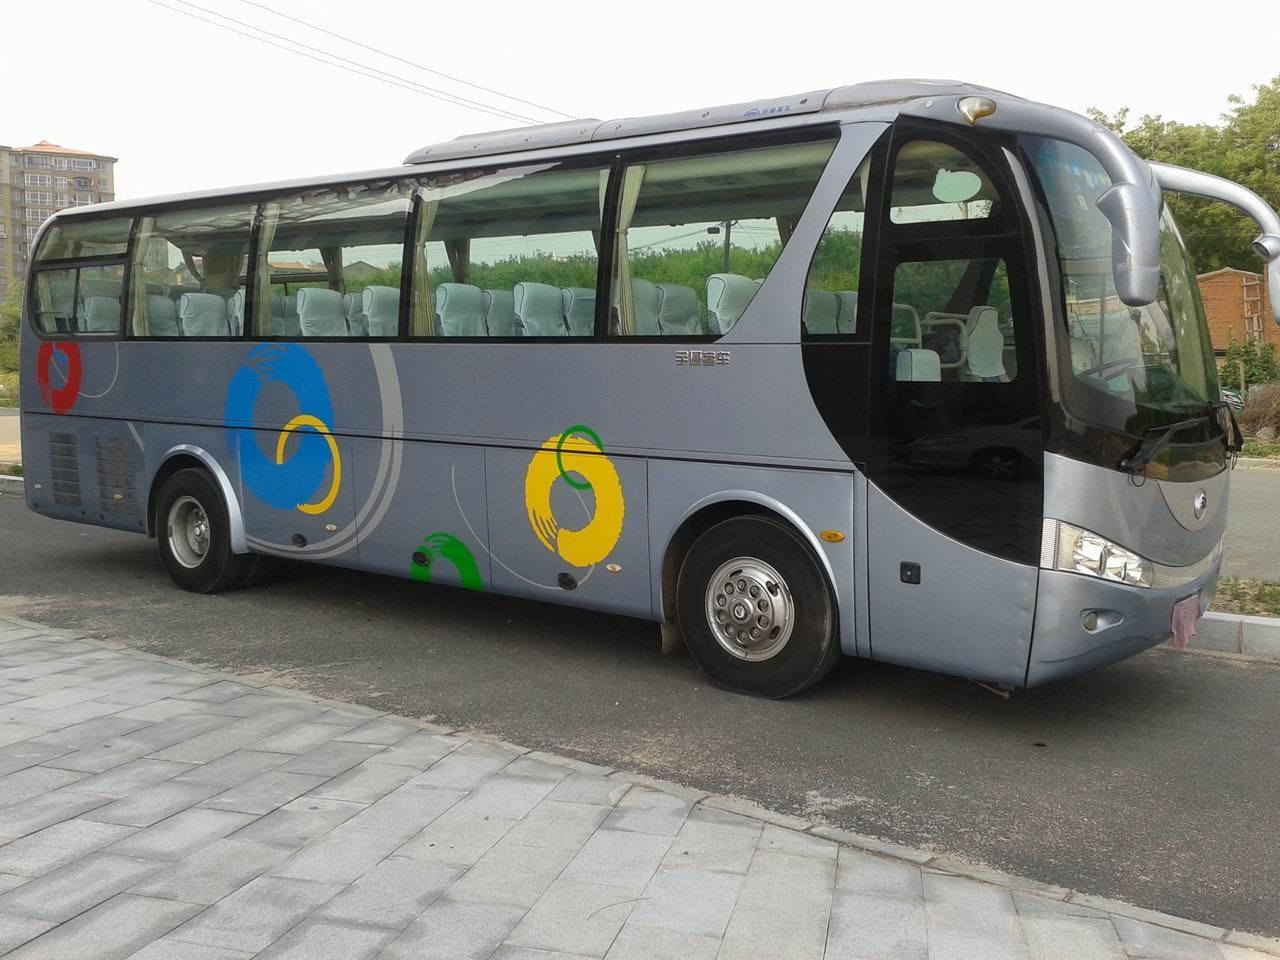bus: (17, 107, 1247, 716)
